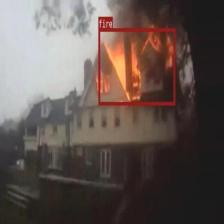fire: (98, 28, 175, 105)
